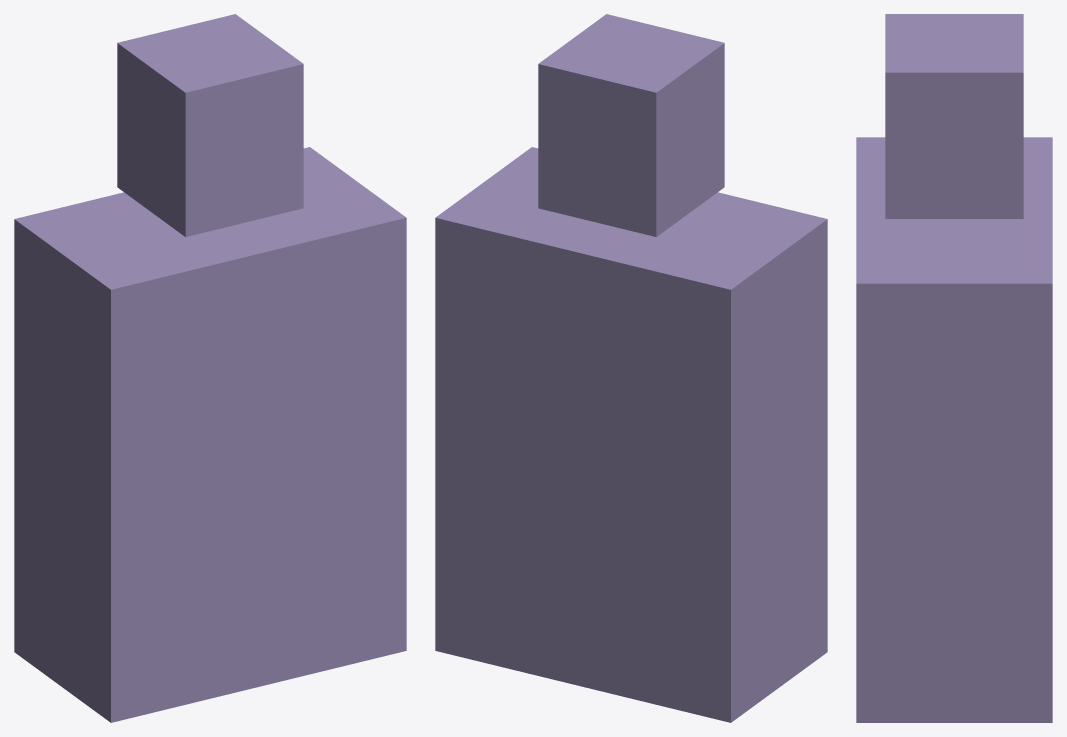
The model's file is crowd_impostor_02.gltf.
The picture shows the model from 3 angles, left to right: view 1: azimuth 30°, elevation 25°; view 2: azimuth 150°, elevation 25°; view 3: azimuth 270°, elevation 25°; orthographic projection.
Parts seen in each view (by area): view 1: Body_torso, Body_head; view 2: Body_torso, Body_head; view 3: Body_torso, Body_head.
Part boxes in pixels (left/top/right/bottom): Body_torso: left=14, top=147, right=406, bottom=722; Body_head: left=117, top=14, right=303, bottom=236; Body_torso: left=435, top=147, right=827, bottom=722; Body_head: left=538, top=14, right=724, bottom=236; Body_torso: left=856, top=137, right=1052, bottom=722; Body_head: left=885, top=14, right=1023, bottom=218.
Size of the model in its own units: 0.6 by 1.16 by 0.34.
